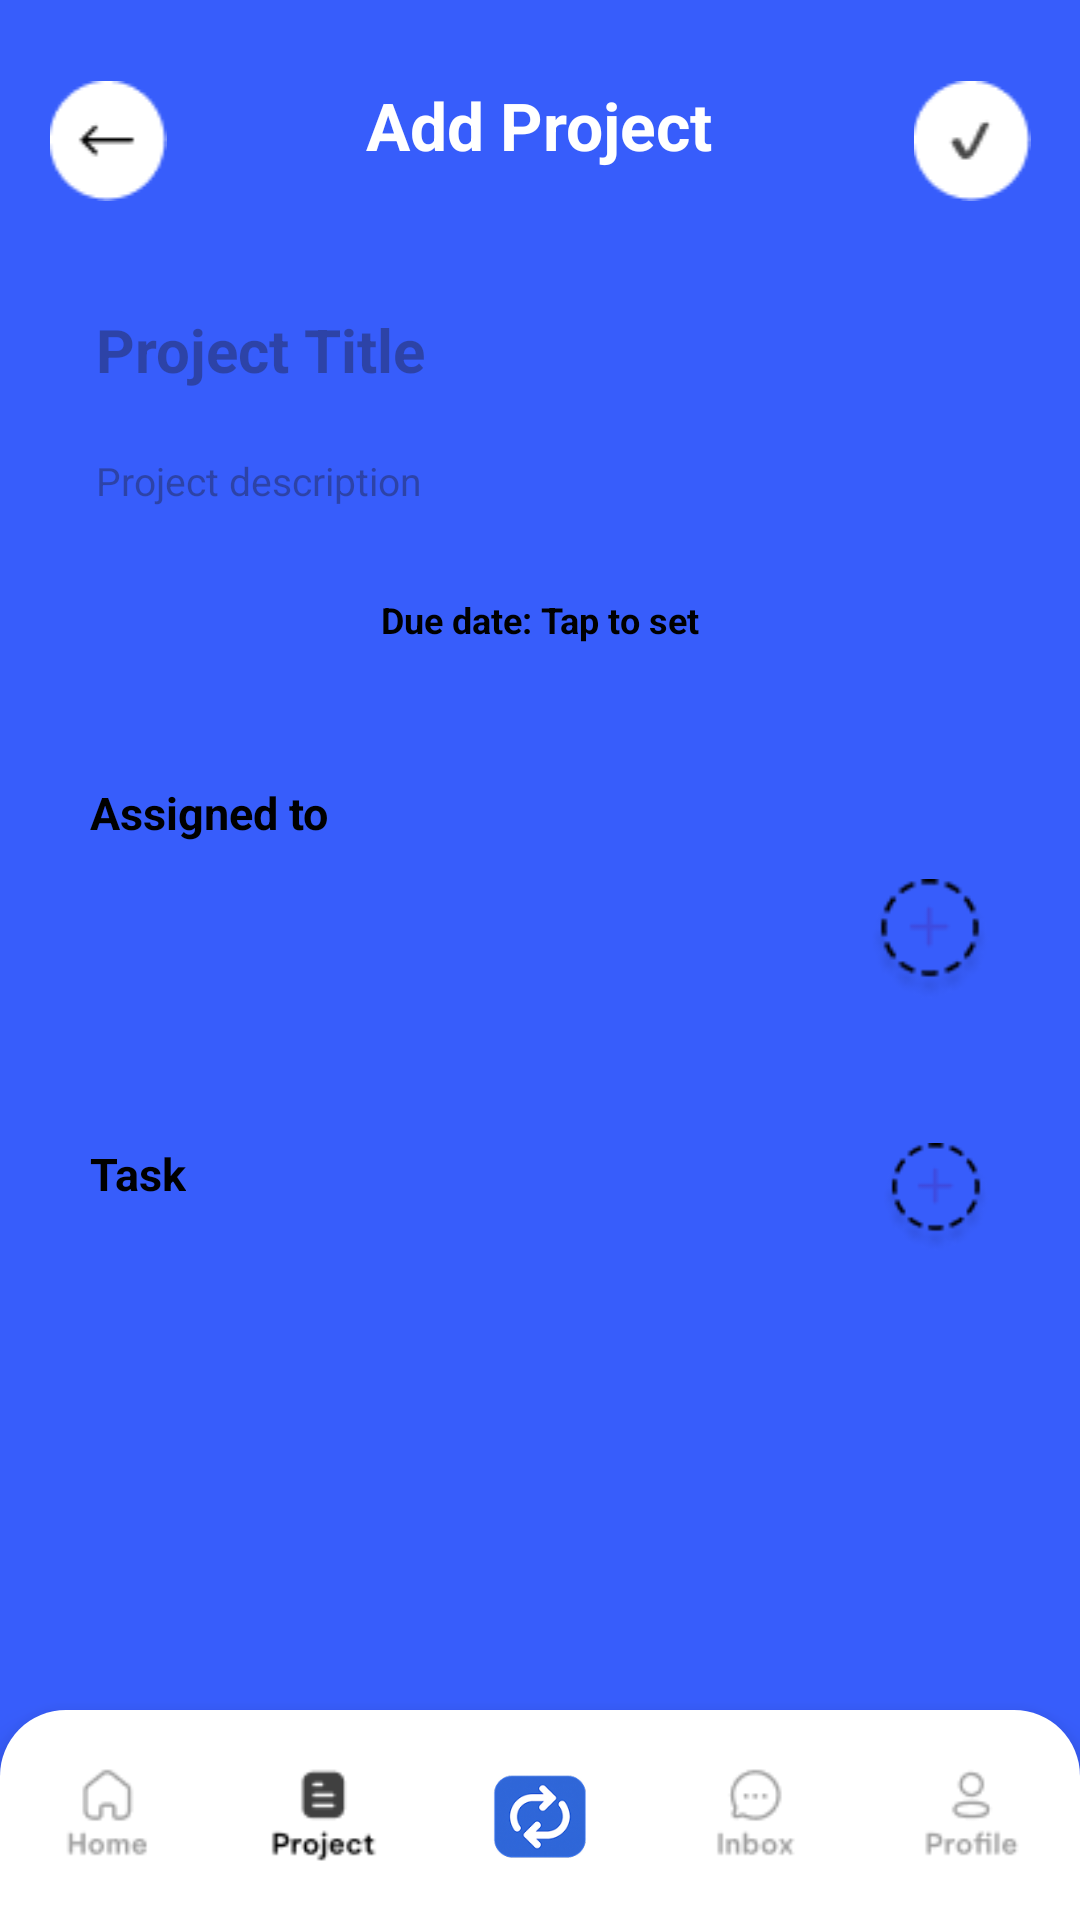

Where icons sit on this 1080*1920 app screen, as bbox=[x1, y1, x2, y2]:
add dotted: bbox=[880, 879, 980, 977], bbox=[891, 1143, 981, 1232]
back arrow: bbox=[50, 81, 167, 201]
save tick: bbox=[914, 81, 1031, 201]
